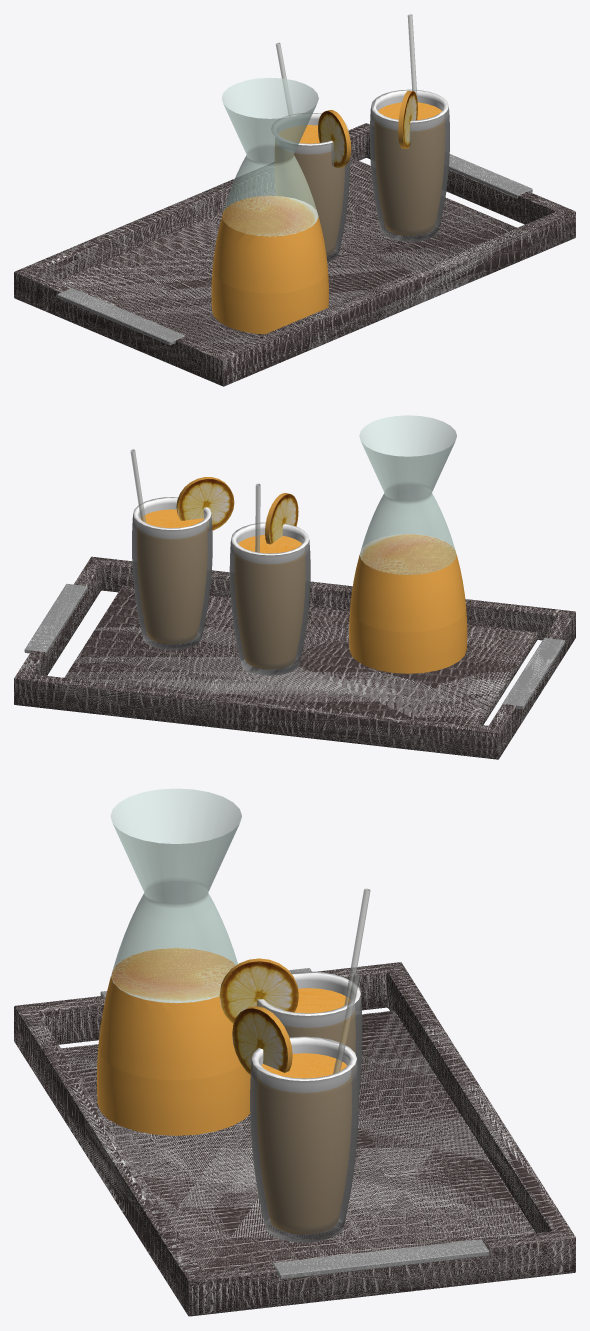
The model's file is juice.dae.
3 renders of one model, top to bottom at view 1: azimuth 30°, elevation 25°; view 2: azimuth 150°, elevation 25°; view 3: azimuth 270°, elevation 25°, orthographic. The views are drawn at different scales.
Visible parts, largest first — view 1: Component_26, lemonade (×7), Orange_Juice_Carafe (×3), Component_27 (×2), lemon (×2); view 2: Component_26, lemonade (×8), Orange_Juice_Carafe (×3), Component_27 (×2), lemon (×2); view 3: Component_26, Orange_Juice_Carafe (×3), lemonade (×8), lemon (×2), Component_27, straw (×2).
Part boxes in pixels (x1,y1,x2,y2): Component_26: (14,123,575,386); lemonade (×7): (275,89,449,262); Orange_Juice_Carafe (×3): (211,77,328,334); Component_27 (×2): (57,154,532,345); lemon (×2): (318,91,417,167); Component_26: (14,556,575,759); lemonade (×8): (132,497,310,675); Orange_Juice_Carafe (×3): (349,415,467,673); Component_27 (×2): (24,583,565,709); lemon (×2): (177,479,298,543); Component_26: (14,962,575,1316); Orange_Juice_Carafe (×3): (97,788,250,1135); lemonade (×8): (250,971,362,1242); lemon (×2): (220,961,298,1074); Component_27: (272,1239,489,1279); straw (×2): (333,888,370,1073).
Bounding box in the file's own units: 22.57 × 16.8 × 9.76.
